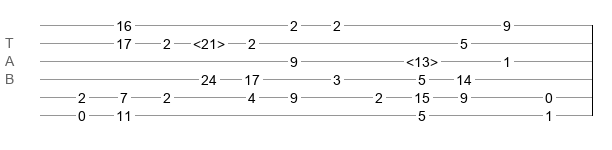0: (78, 108, 86, 118), (545, 90, 553, 100)
1: (503, 54, 511, 64), (545, 108, 553, 118)
11: (116, 108, 132, 118)
14: (456, 72, 472, 82)
15: (414, 90, 430, 100)
16: (116, 18, 132, 28)
17: (116, 36, 132, 46), (244, 72, 260, 82)
2: (78, 90, 86, 100), (163, 36, 171, 46), (163, 90, 171, 100), (248, 36, 256, 46), (290, 18, 298, 28), (333, 18, 341, 28), (375, 90, 383, 100)
24: (201, 72, 217, 82)
3: (333, 72, 341, 82)
4: (248, 90, 256, 100)
5: (418, 72, 426, 82), (418, 108, 426, 118), (460, 36, 468, 46)
7: (120, 90, 128, 100)
9: (290, 54, 298, 64), (290, 90, 298, 100), (460, 90, 468, 100), (503, 18, 511, 28)
harmonic: (193, 36, 225, 46), (406, 54, 438, 64)
